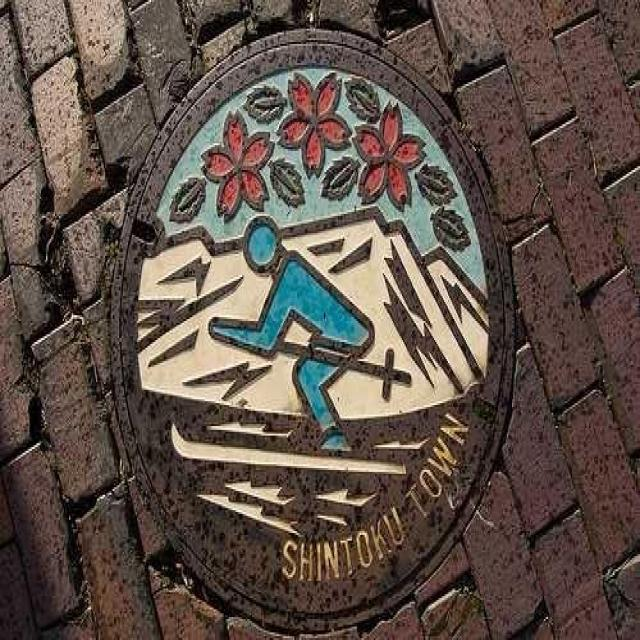manhole: (111, 34, 509, 632)
